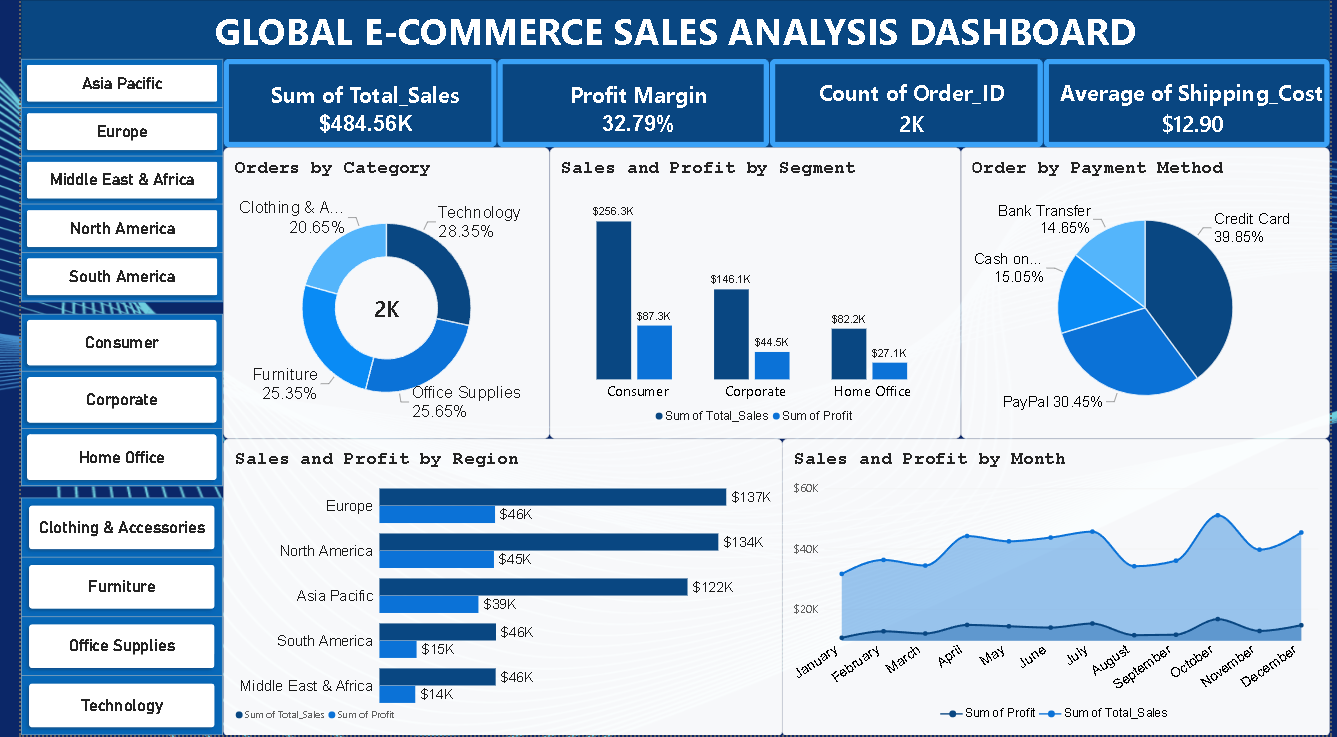

This screenshot's page, from the dashboard's own definition file:
{"tool":"powerbi","page":{"name":"Page 1","canvas":[1920,1080],"ordinal":0},"visuals":[{"type":"cardVisual","title":"Total Sales","fields":{"Data":["Sum(global_ecommerce_sales.Total_Sales)"]},"box":[297.1,86.2,401.7,130.2],"z":0},{"type":"shape","box":[0,0,1920.4,86.4],"z":1000},{"type":"cardVisual","fields":{"Data":["global_ecommerce_sales.Profit Margin"]},"box":[698.8,86.2,399.9,130.2],"z":2000},{"type":"cardVisual","fields":{"Data":["CountNonNull(global_ecommerce_sales.Order_ID)"]},"box":[1098.7,86.2,401.7,130.2],"z":3000},{"type":"cardVisual","fields":{"Data":["Avg(global_ecommerce_sales.Shipping_Cost)"]},"box":[1500.4,86.2,420,130.2],"z":4000},{"type":"pieChart","title":"Order by Payment Method","fields":{"Category":["global_ecommerce_sales.Payment_Method"],"Y":["CountNonNull(global_ecommerce_sales.Order_ID)"]},"box":[1379.4,216.4,541.1,427.4],"z":6000},{"type":"lineChart","title":"Sales and Profit by Month","fields":{"Category":["global_ecommerce_sales.Order_Date.Variation.Date Hierarchy.Month"],"Y":["Sum(global_ecommerce_sales.Profit)","Sum(global_ecommerce_sales.Total_Sales)"]},"box":[1117.1,643.8,803.4,436.6],"z":7000},{"type":"advancedSlicerVisual","fields":{"Values":["global_ecommerce_sales.Customer_Segment"]},"box":[0,459.7,296.8,253.4],"z":8000},{"type":"advancedSlicerVisual","fields":{"Values":["global_ecommerce_sales.Product_Category"]},"box":[0,729.3,296.8,351.1],"z":9000},{"type":"advancedSlicerVisual","fields":{"Values":["global_ecommerce_sales.Region"]},"box":[0,86.2,297.1,357.7],"z":10000},{"type":"donutChart","title":"Orders by Category","fields":{"Category":["global_ecommerce_sales.Product_Category"],"Y":["CountNonNull(global_ecommerce_sales.Order_ID)"]},"box":[297.1,216.4,478.7,427.4],"z":11000},{"type":"clusteredBarChart","title":"Sales and Profit by Region","fields":{"Category":["global_ecommerce_sales.Region"],"Y":["Sum(global_ecommerce_sales.Total_Sales)","Sum(global_ecommerce_sales.Profit)"]},"box":[297.1,643.8,819.9,436.6],"z":12000},{"type":"clusteredColumnChart","title":"Sales and Profit by Segment","fields":{"Category":["global_ecommerce_sales.Customer_Segment"],"Y":["Sum(global_ecommerce_sales.Total_Sales)","Sum(global_ecommerce_sales.Profit)"]},"box":[775.9,216.4,603.5,427.4],"z":12001}]}

Visuals, with their boxes in screenshot pixels (x1, y1, x2, y2), scaled from the page's 1920x1080 canvas onto the 1337x737 screenshot:
"Total Sales" cardVisual: x1=207, y1=59, x2=487, y2=148
shape: x1=0, y1=0, x2=1336, y2=59
cardVisual - global_ecommerce_sales.Profit Margin: x1=487, y1=59, x2=765, y2=148
cardVisual - CountNonNull(global_ecommerce_sales.Order_ID): x1=765, y1=59, x2=1045, y2=148
cardVisual - Avg(global_ecommerce_sales.Shipping_Cost): x1=1045, y1=59, x2=1336, y2=148
"Order by Payment Method" pieChart: x1=961, y1=148, x2=1336, y2=439
"Sales and Profit by Month" lineChart: x1=778, y1=439, x2=1336, y2=736
advancedSlicerVisual - global_ecommerce_sales.Customer_Segment: x1=0, y1=314, x2=207, y2=487
advancedSlicerVisual - global_ecommerce_sales.Product_Category: x1=0, y1=498, x2=207, y2=736
advancedSlicerVisual - global_ecommerce_sales.Region: x1=0, y1=59, x2=207, y2=303
"Orders by Category" donutChart: x1=207, y1=148, x2=540, y2=439
"Sales and Profit by Region" clusteredBarChart: x1=207, y1=439, x2=778, y2=736
"Sales and Profit by Segment" clusteredColumnChart: x1=540, y1=148, x2=961, y2=439
